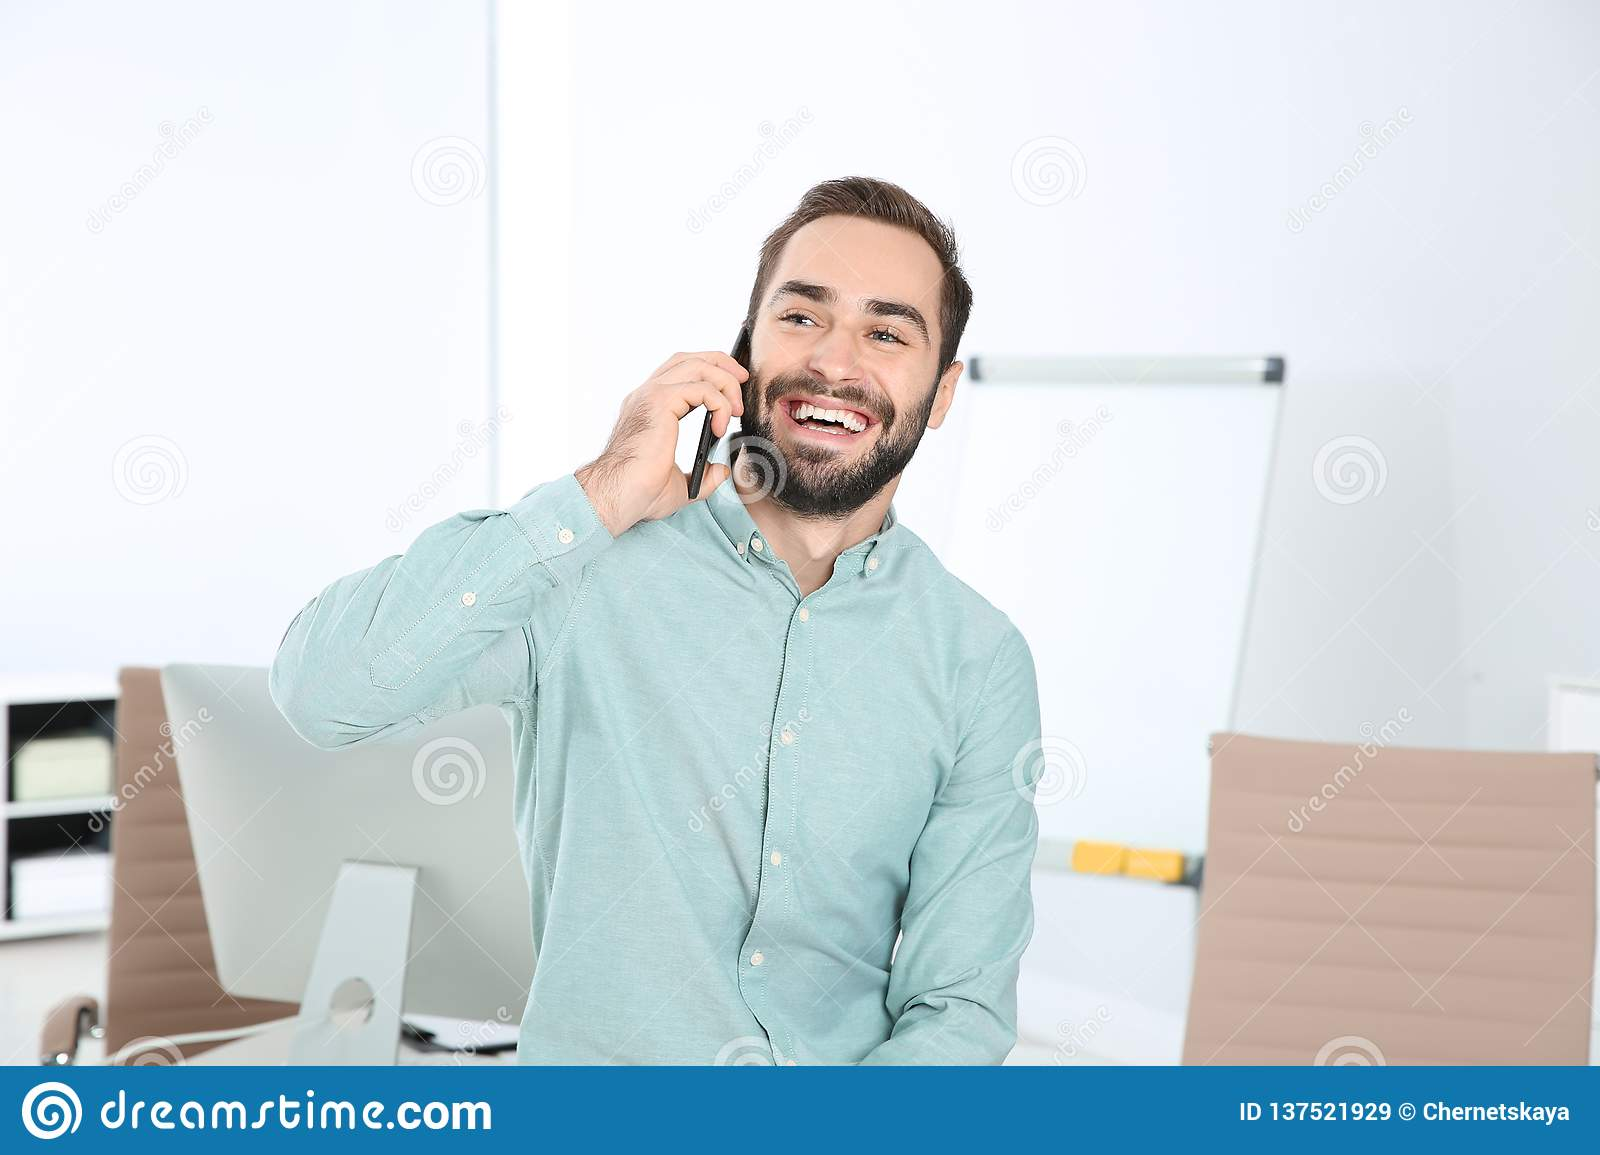phone: (689, 318, 752, 508)
talk: (606, 274, 932, 538)
